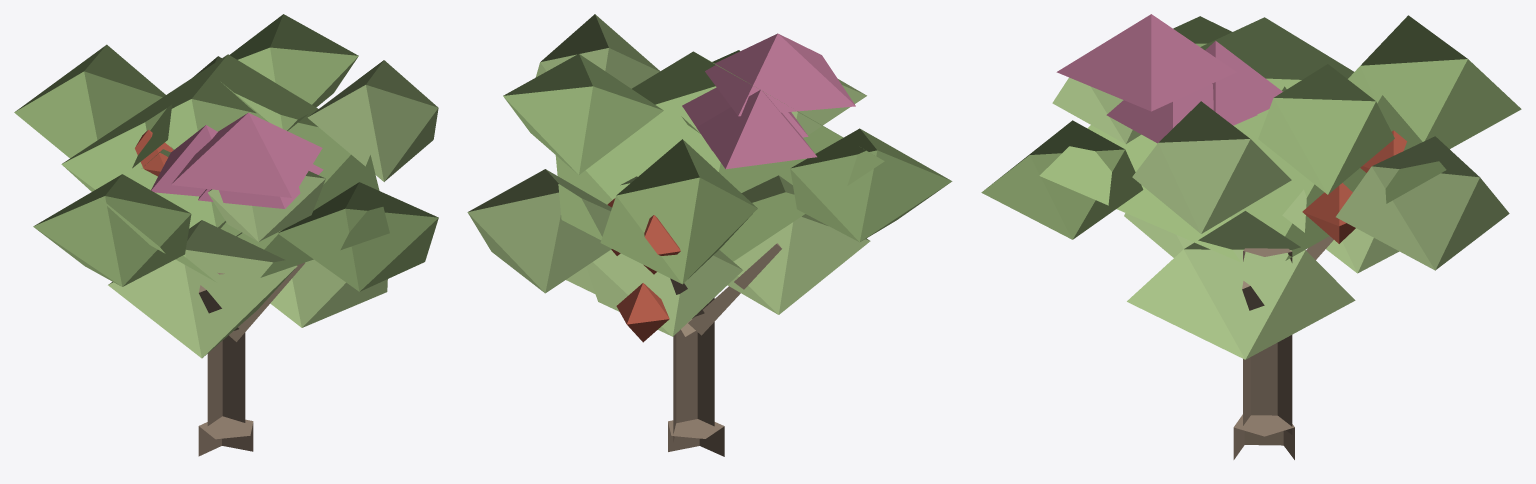
The model's file is tree.sub.tea_oil__spring.glb.
The picture shows the model from 3 angles, left to right: view 1: azimuth 30°, elevation 25°; view 2: azimuth 150°, elevation 25°; view 3: azimuth 270°, elevation 25°; orthographic projection. The views are drawn at different scales.
Visible parts, largest first — view 1: tree.sub.tea_oil__spring; view 2: tree.sub.tea_oil__spring; view 3: tree.sub.tea_oil__spring.
Boxes of the visible parts, bbox=[...] form: tree.sub.tea_oil__spring: bbox=[14, 14, 438, 456]; tree.sub.tea_oil__spring: bbox=[467, 14, 952, 456]; tree.sub.tea_oil__spring: bbox=[981, 14, 1521, 459].
Bounding box in the file's own units: 7.08 × 7.16 × 7.99.
